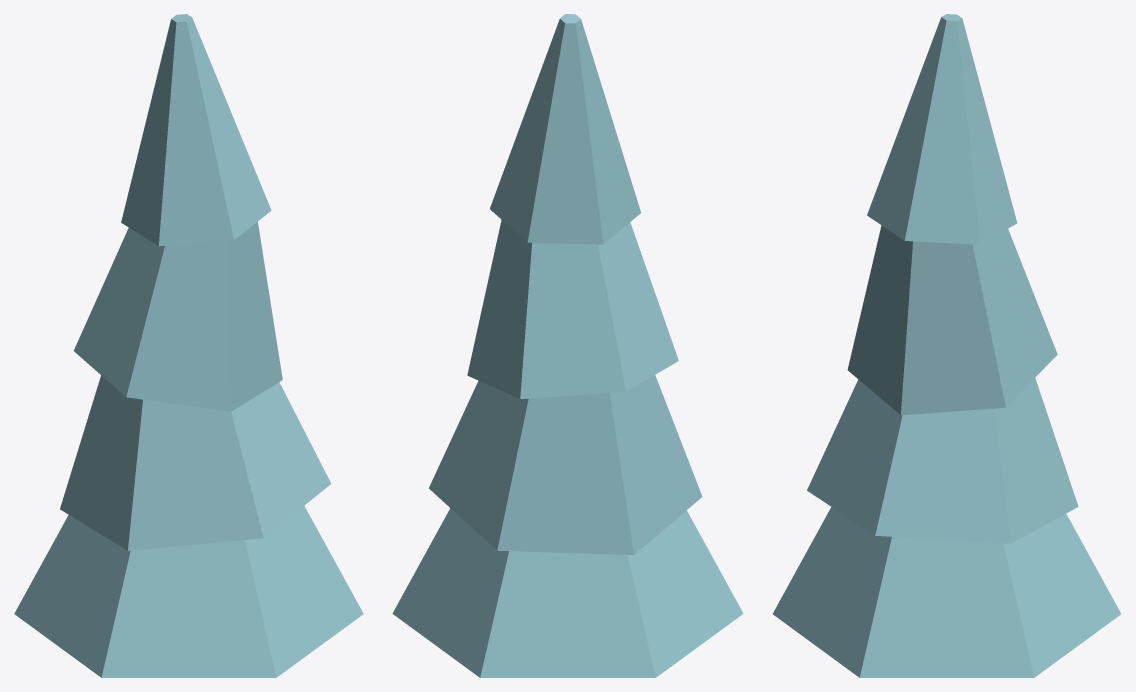
File: tree_pineSmall_round1.glb
3 renders of one model, left to right at view 1: azimuth 30°, elevation 25°; view 2: azimuth 150°, elevation 25°; view 3: azimuth 270°, elevation 25°, orthographic.
Parts seen in each view (by area): view 1: tree_pineSmall_round1; view 2: tree_pineSmall_round1; view 3: tree_pineSmall_round1.
Part boxes in pixels (bbox=[...]): tree_pineSmall_round1: bbox=[14, 14, 363, 677]; tree_pineSmall_round1: bbox=[392, 14, 743, 677]; tree_pineSmall_round1: bbox=[773, 14, 1120, 677].
Bounding box in the file's own units: 0.4804 × 1.04 × 0.5547.
